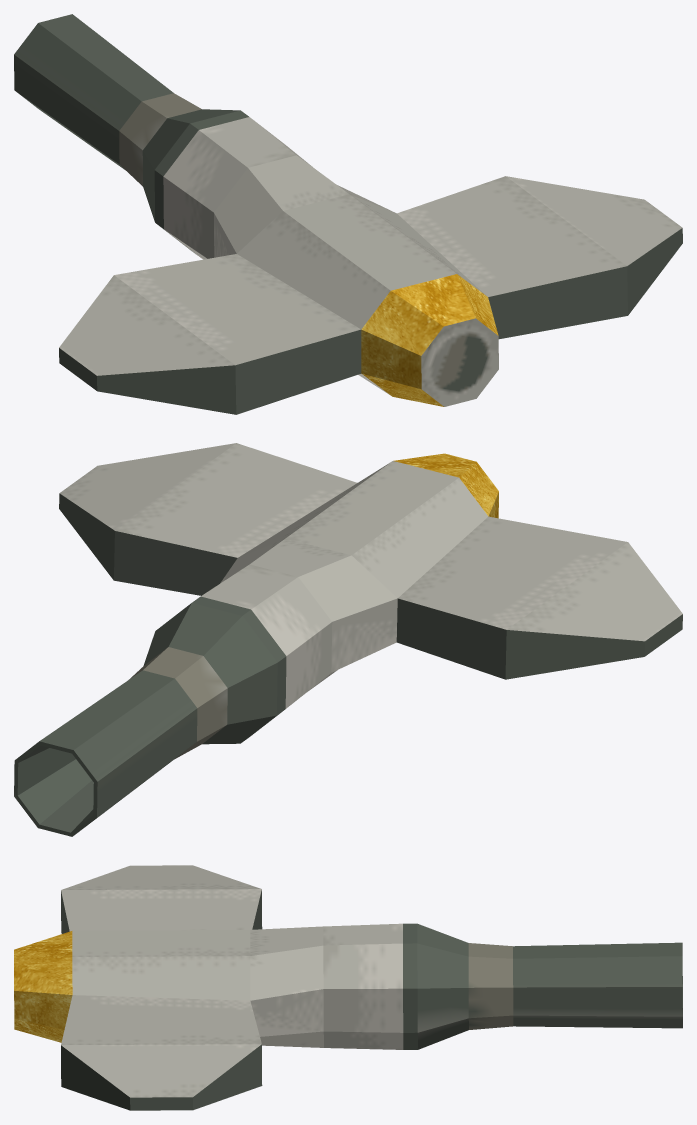
Rendered from MusicalKey.fbx.
3 renders of one model, top to bottom at view 1: azimuth 30°, elevation 25°; view 2: azimuth 150°, elevation 25°; view 3: azimuth 270°, elevation 25°, orthographic. The views are drawn at different scales.
Visible parts, largest first — view 1: MusicalKeyFree; view 2: MusicalKeyFree; view 3: MusicalKeyFree.
Part boxes in pixels (x1=…): MusicalKeyFree: x1=14, y1=14, x2=682, y2=414; MusicalKeyFree: x1=14, y1=443, x2=682, y2=836; MusicalKeyFree: x1=14, y1=865, x2=682, y2=1110.
Bounding box in the file's own units: 0.064 × 0.0134 × 0.0765.
